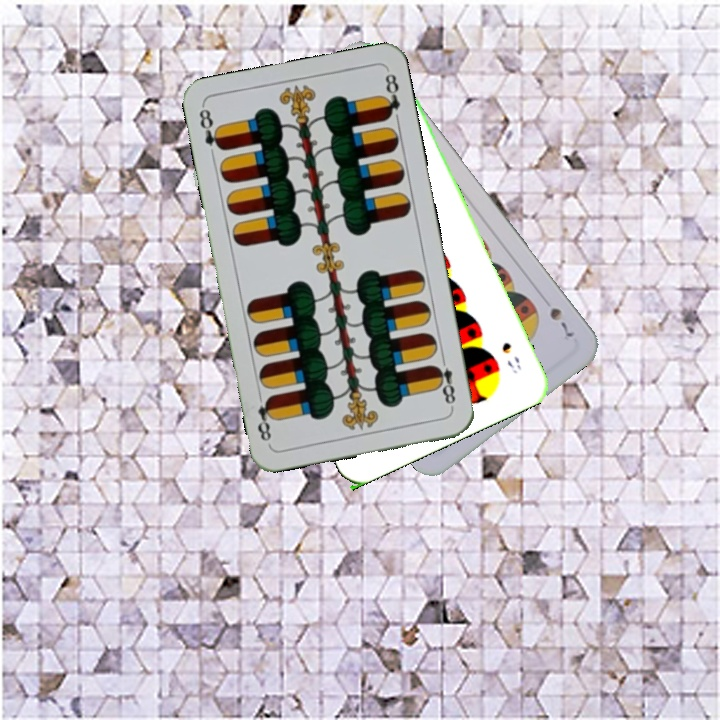E8: (430, 352, 458, 411), (195, 103, 226, 153)
S7: (545, 303, 576, 340)
S8: (498, 338, 524, 376)
